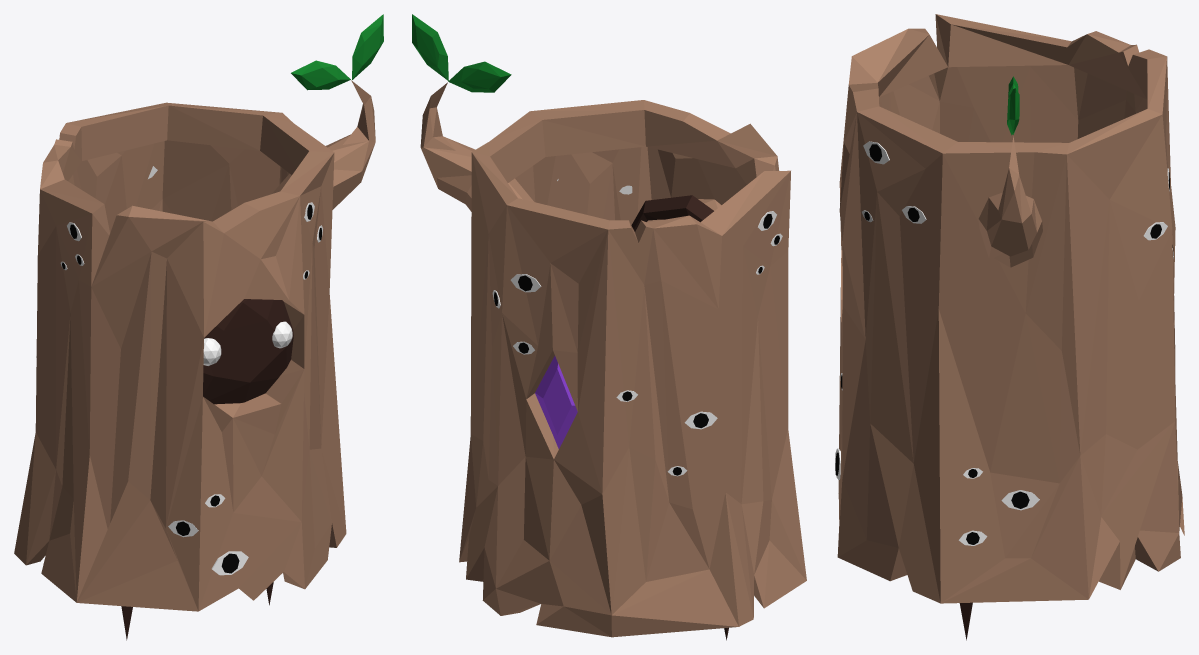
Rendered from GoonGem_Final_NoAnim.fbx.
The picture shows the model from 3 angles, left to right: view 1: azimuth 30°, elevation 25°; view 2: azimuth 150°, elevation 25°; view 3: azimuth 270°, elevation 25°; orthographic projection. The views are drawn at different scales.
Parts seen in each view (by area): view 1: GoonTrunk; view 2: GoonTrunk; view 3: GoonTrunk.
Boxes of the visible parts, x1,y1,x2,y2 form: GoonTrunk: [14, 14, 383, 640]; GoonTrunk: [412, 14, 806, 640]; GoonTrunk: [835, 14, 1184, 640].
Bounding box in the file's own units: 129 × 196 × 98.89.
